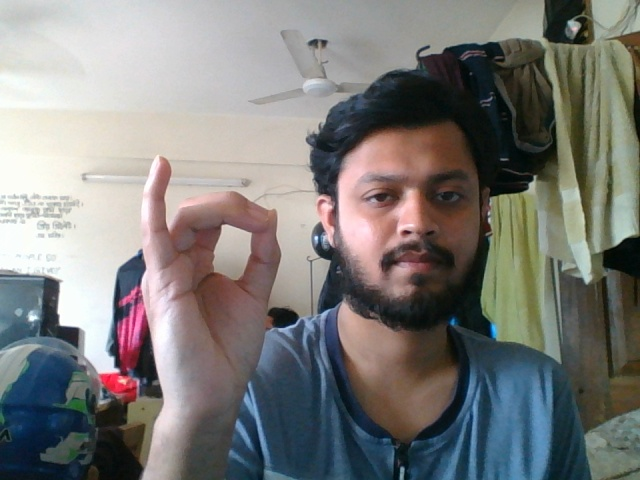ou: (125, 150, 287, 448)
